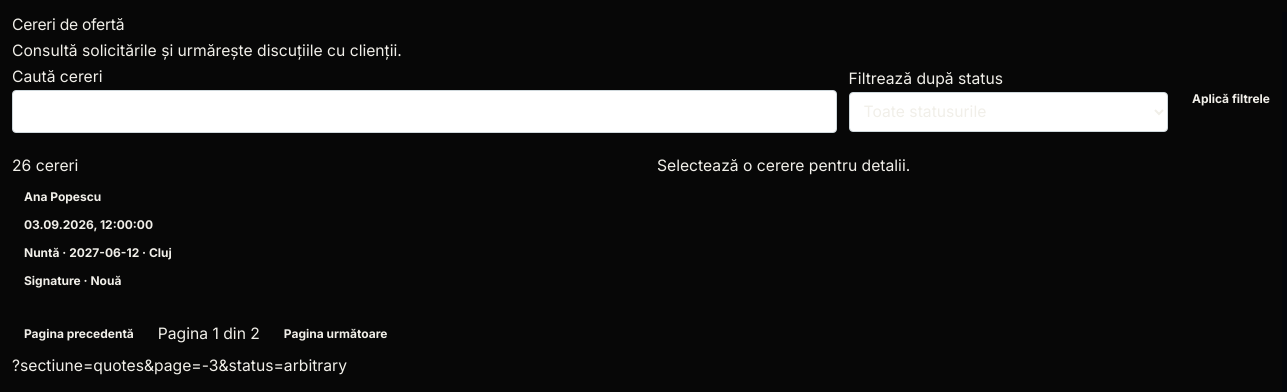
pagination is bounded and query values cannot change the API path
Check: the button "Pagina precedentă" is disabled, box [12,314,146,352]
What coordinates should you click on to do the following:
click the button "Pagina următoare"
I would click on:
 (336, 334)
Its box is [272,314,399,352].
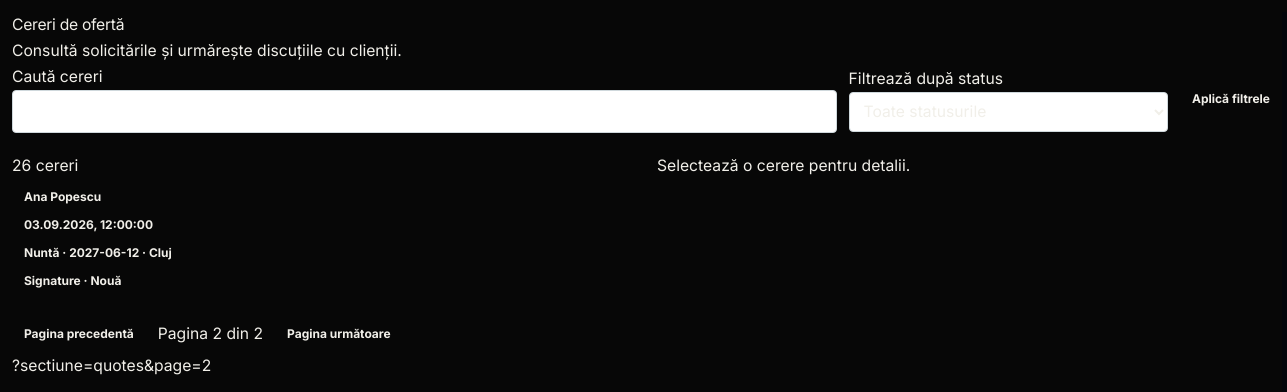
Check: the button "Pagina următoare" is disabled, box [275,314,402,352]
